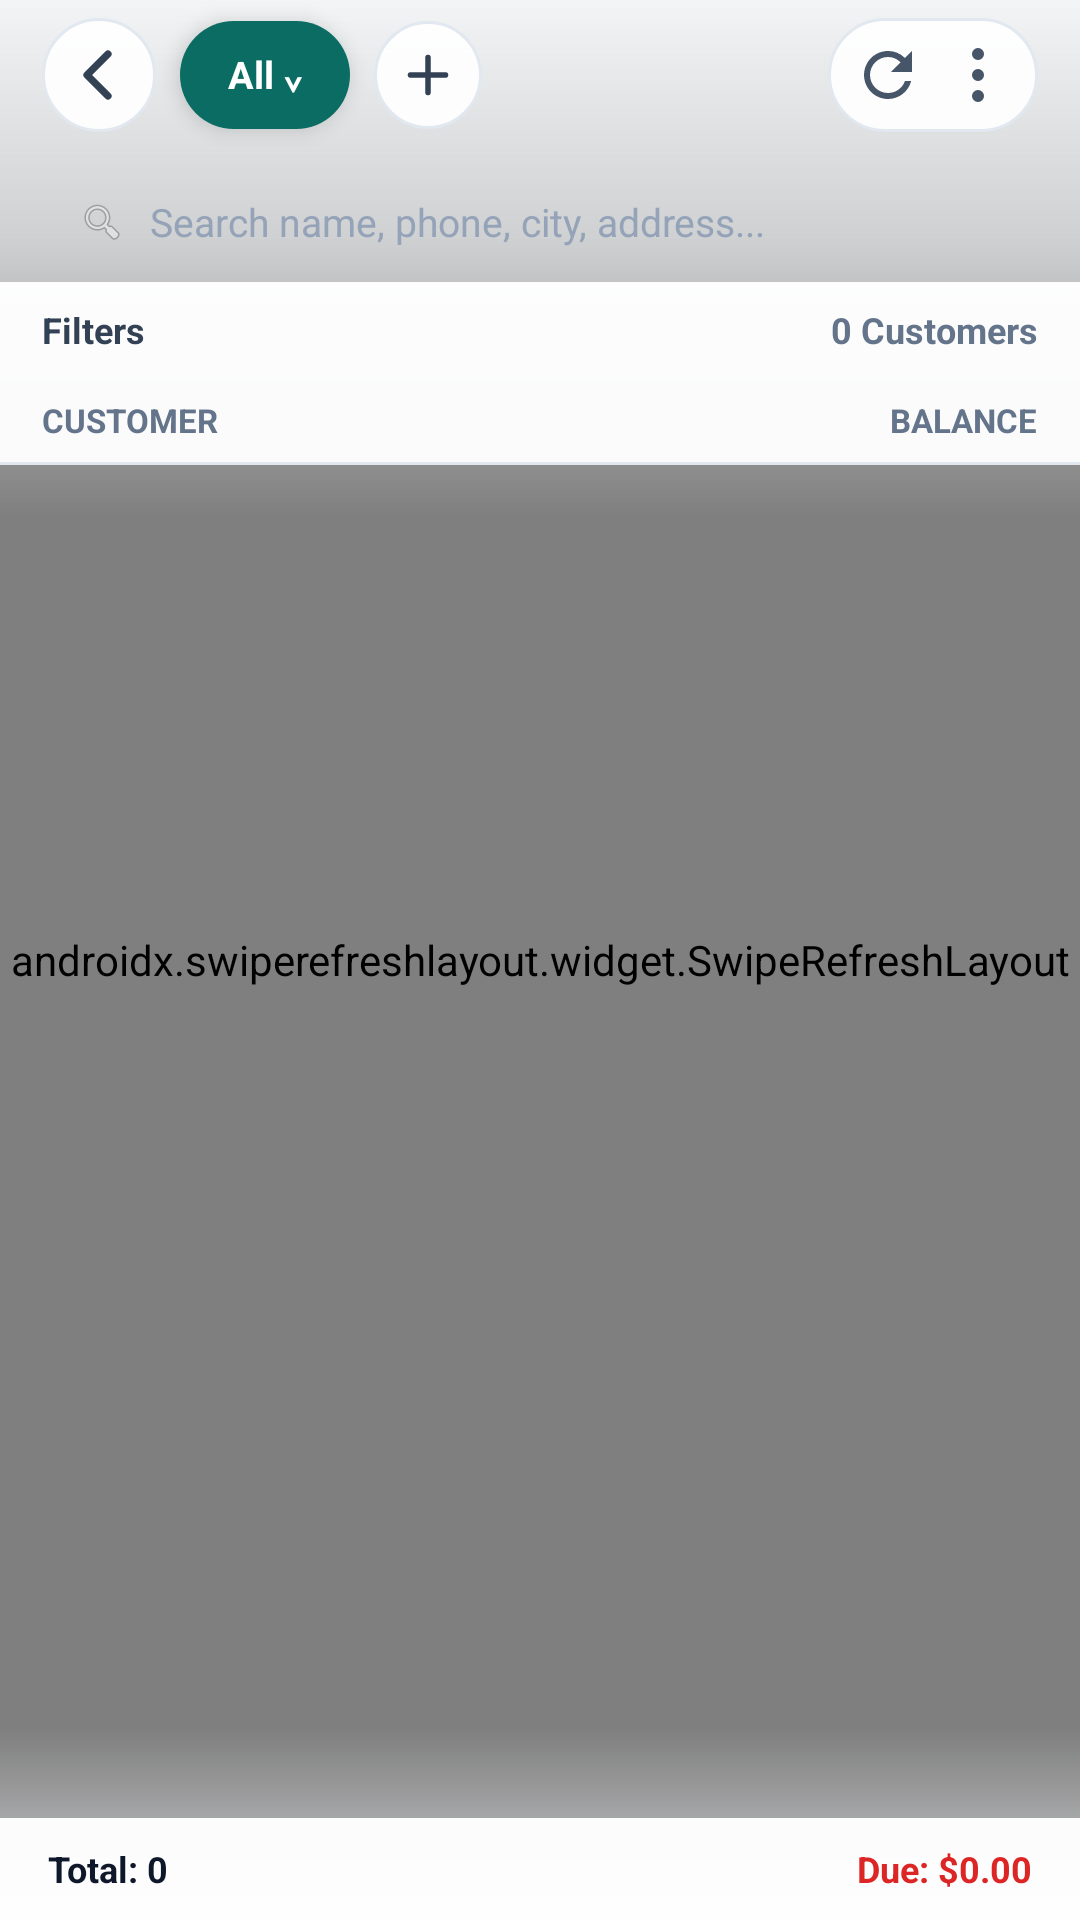

Where icons sit on this 1080px x 1920px app screen, as [x1,y1,x2,y2]:
Back: [45,21,153,129]
More: [972,48,984,102]
New Customer: [374,21,482,129]
